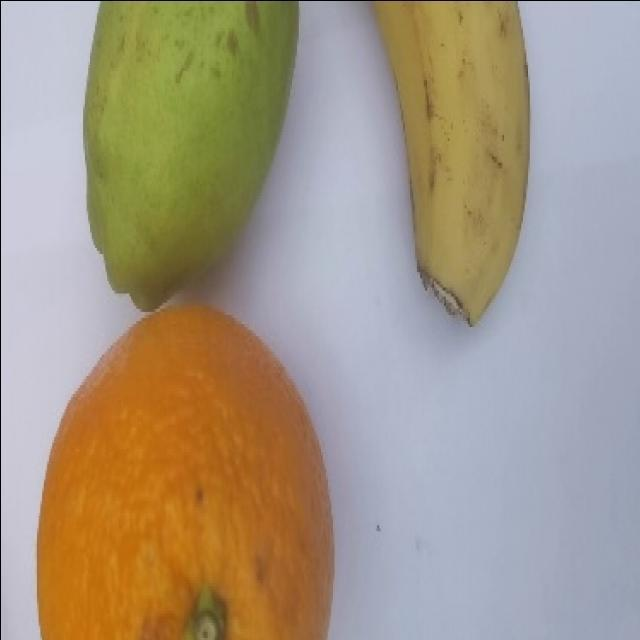Banana: (371, 0, 530, 327)
Orange: (35, 303, 335, 639)
